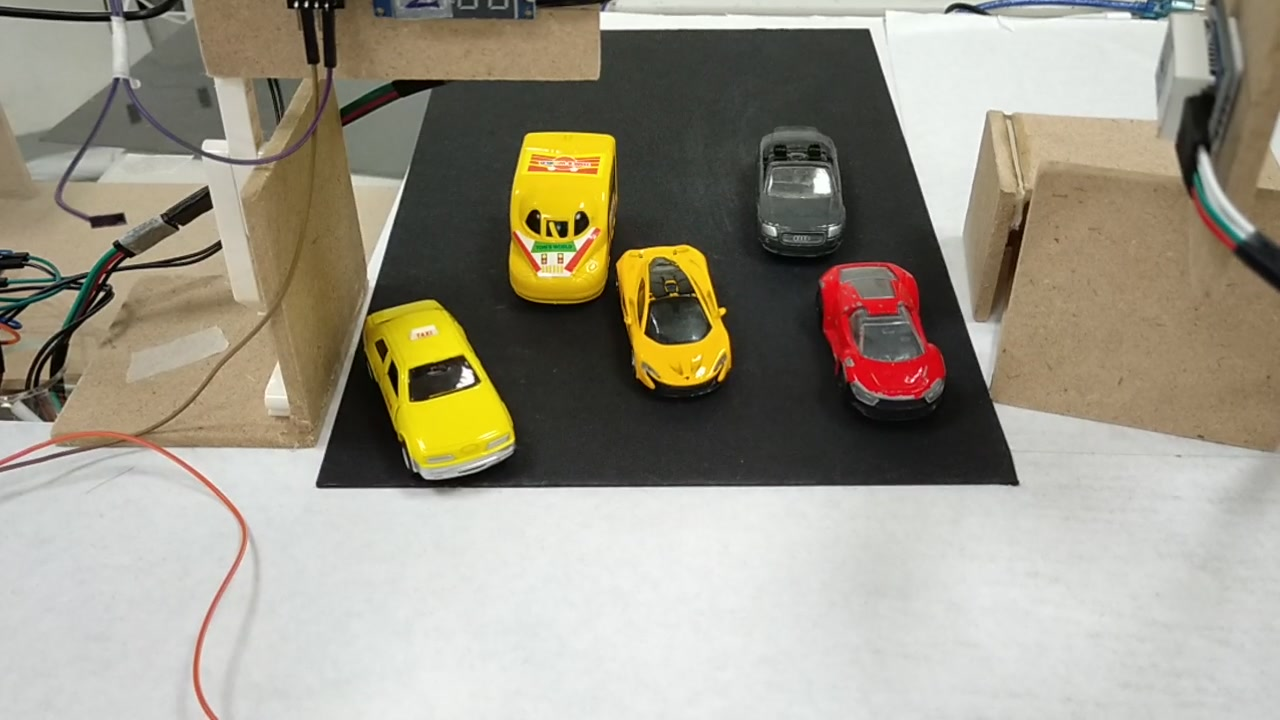car: (354, 311, 516, 482), (822, 262, 945, 414), (612, 245, 730, 395), (752, 133, 844, 255)
